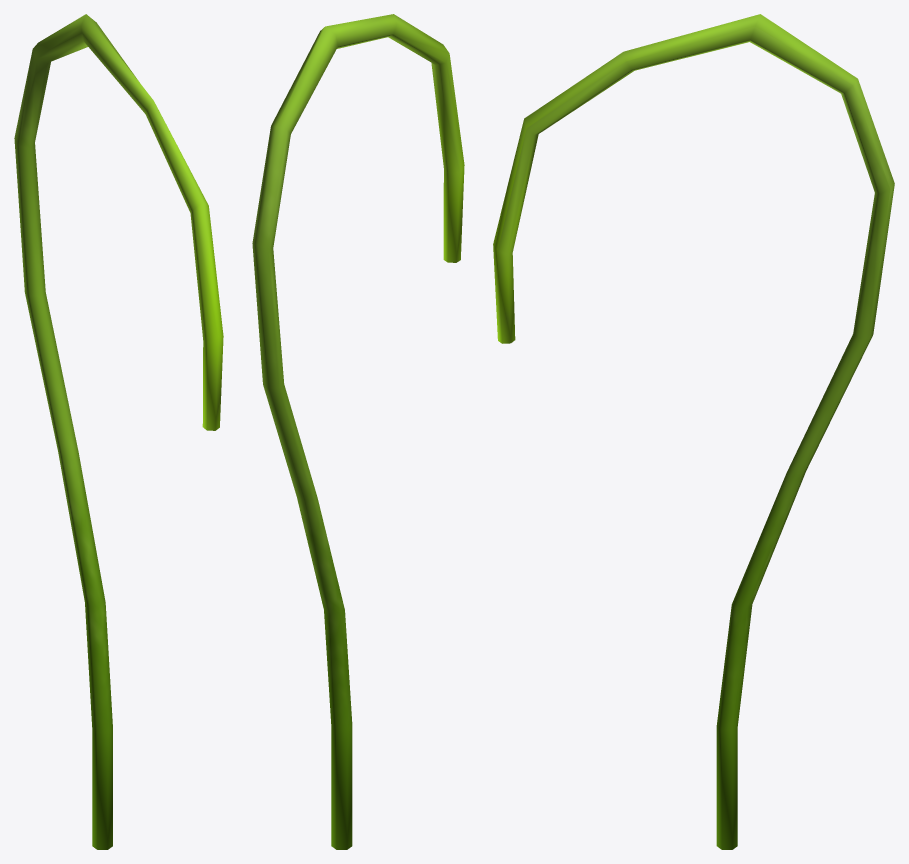
File: stem08.fbx
The picture shows the model from 3 angles, left to right: view 1: azimuth 30°, elevation 25°; view 2: azimuth 150°, elevation 25°; view 3: azimuth 270°, elevation 25°; orthographic projection.
Visible parts, largest first — view 1: stem08; view 2: stem08; view 3: stem08.
Part boxes in pixels (x1,y1,x2,y2): stem08: [14, 14, 223, 849]; stem08: [252, 14, 464, 849]; stem08: [493, 14, 894, 849].
Size of the model in its own units: 17.32 by 868 by 380.
